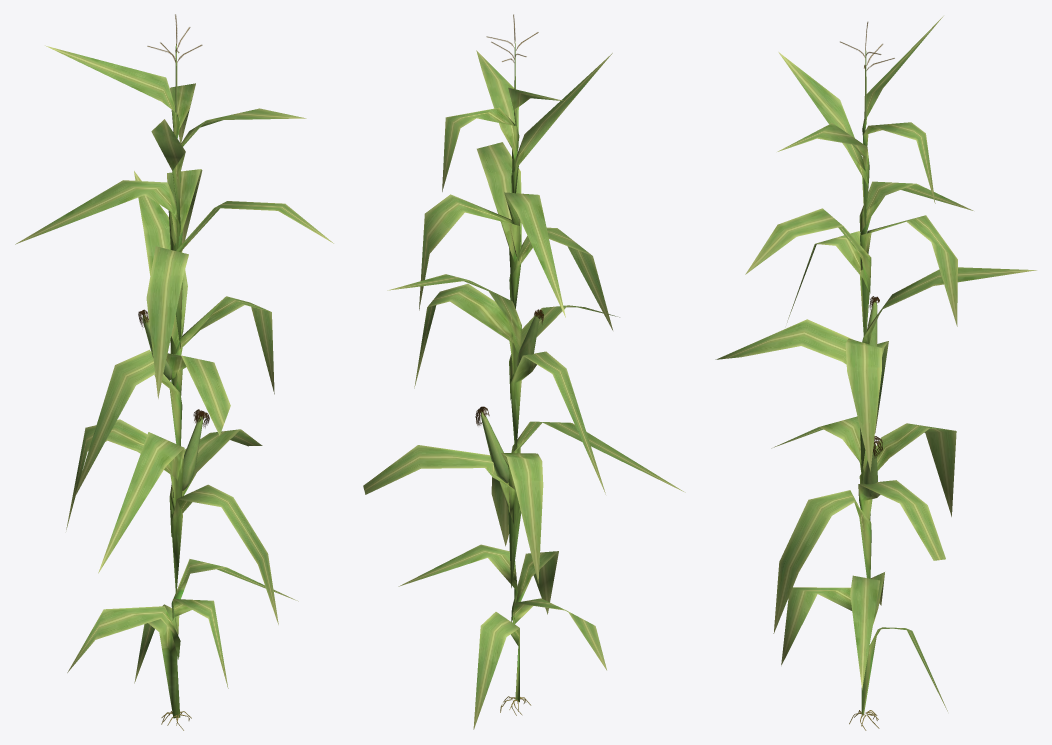
Rendered from PRP_Corn_lod.glb.
The picture shows the model from 3 angles, left to right: view 1: azimuth 30°, elevation 25°; view 2: azimuth 150°, elevation 25°; view 3: azimuth 270°, elevation 25°; orthographic projection.
Visible parts, largest first — view 1: defaultMaterial (×3); view 2: defaultMaterial (×2); view 3: defaultMaterial (×2).
Boxes of the visible parts, box(x1,y1,x2,y2) form: defaultMaterial (×3): box(15, 14, 333, 730); defaultMaterial (×2): box(363, 41, 685, 729); defaultMaterial (×2): box(715, 16, 1036, 730).
Bounding box in the file's own units: 0.9706 × 2.65 × 1.1.
3 materials, 3 textured.
